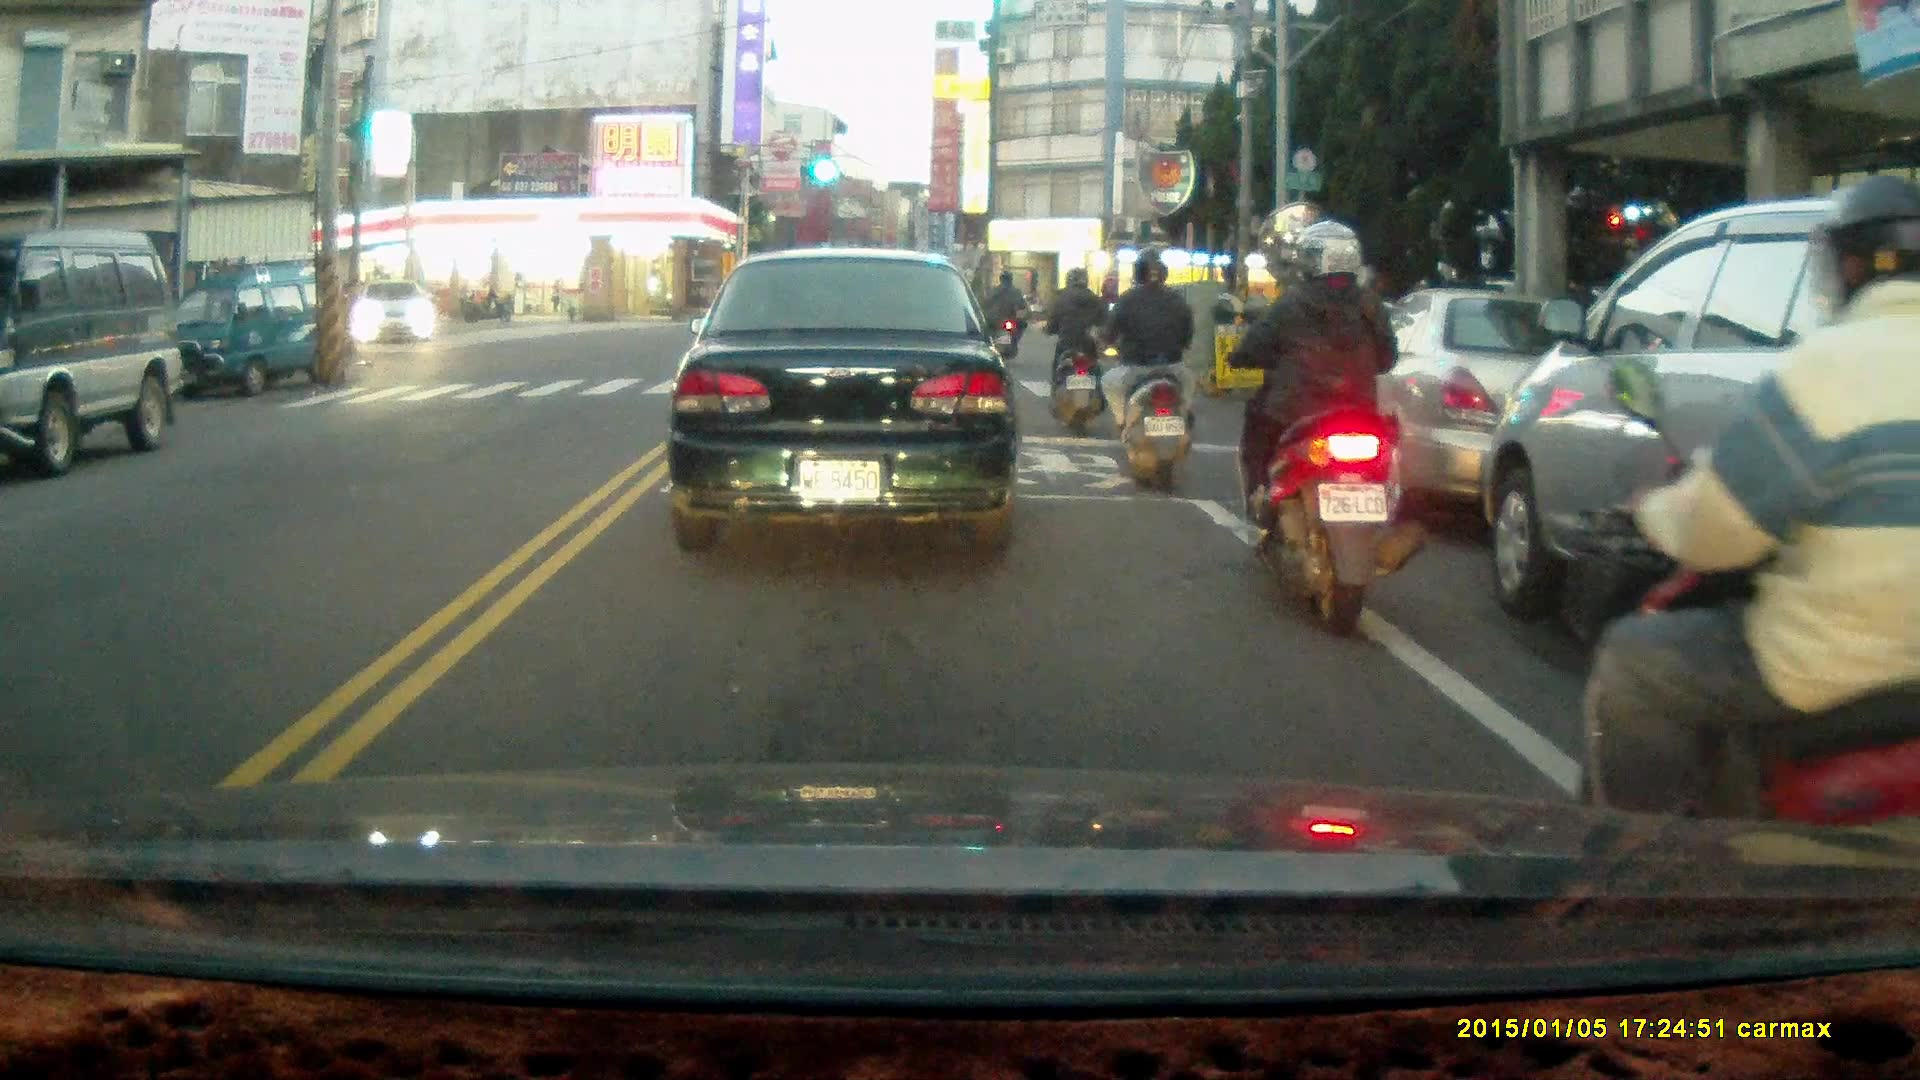rider: (1567, 172, 1919, 867), (1222, 217, 1425, 642), (1078, 247, 1194, 492), (1043, 264, 1108, 430), (984, 271, 1028, 366)
vehicle: (1483, 195, 1920, 806), (670, 248, 1023, 552), (1306, 288, 1672, 523), (1, 234, 174, 469), (155, 263, 349, 404), (356, 282, 439, 350)
